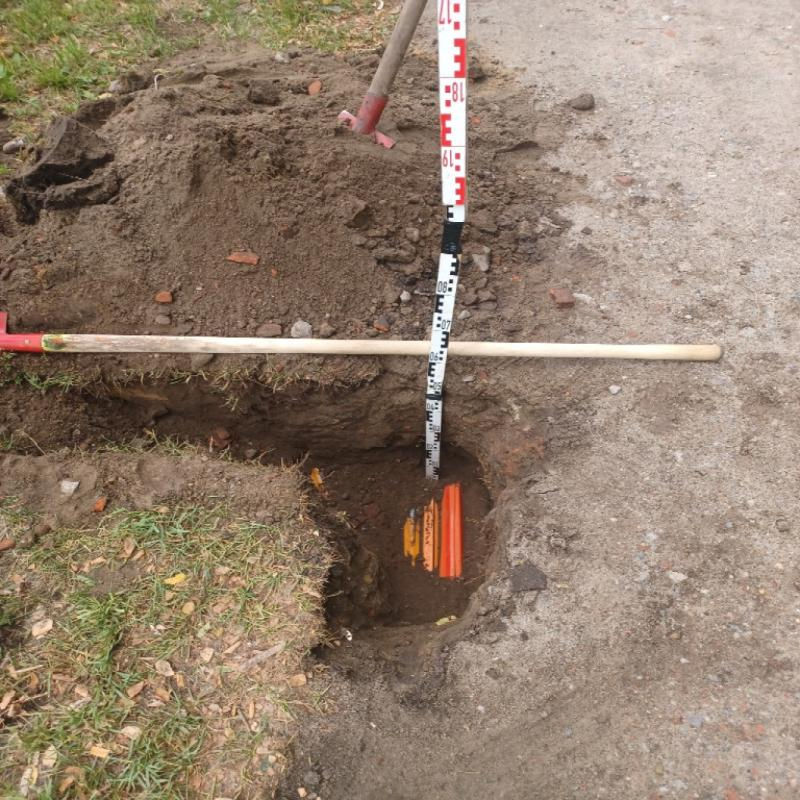Orang-Speednetrohrchen: (401, 482, 463, 575)
